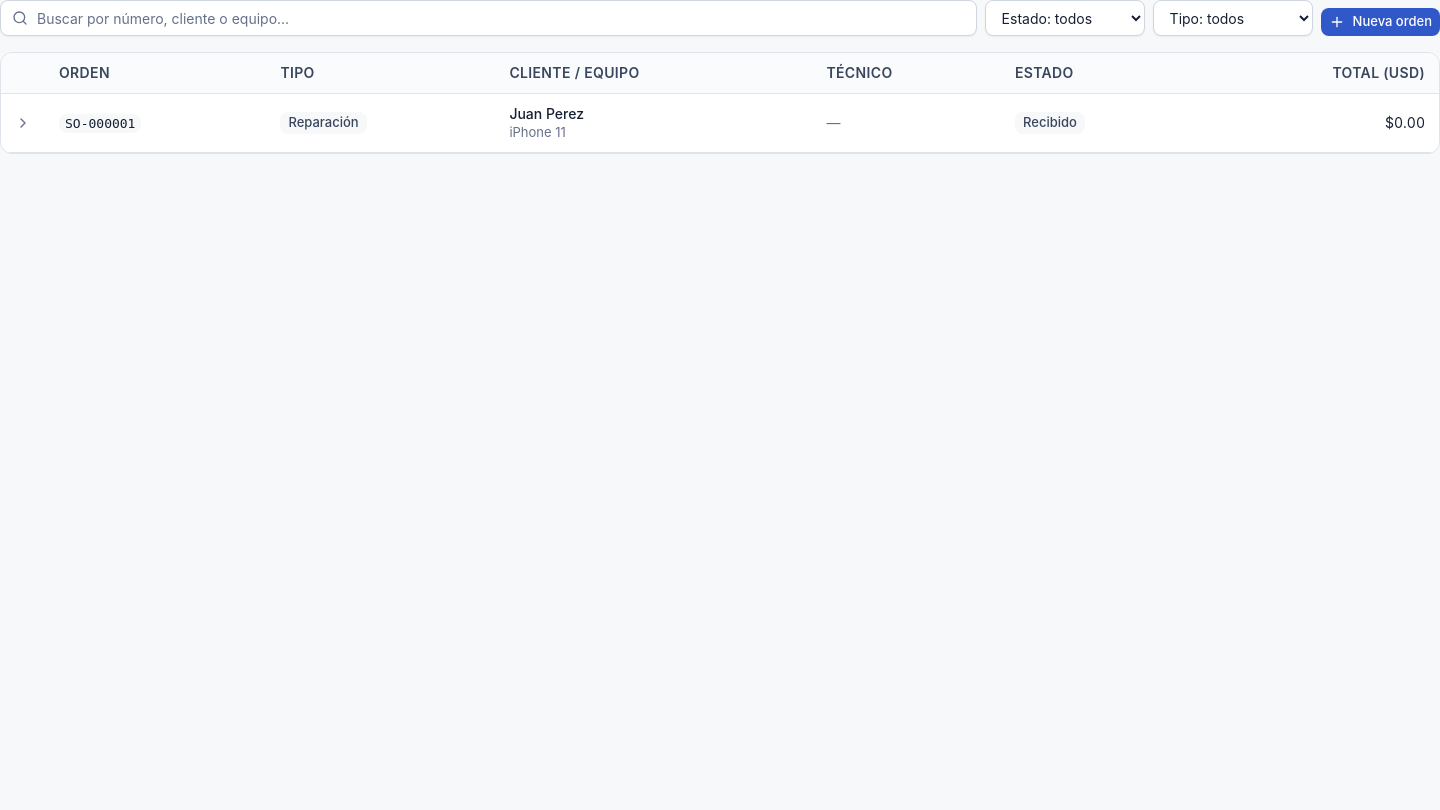
Test: WorkshopManager › para garantia exige tratamiento (boton deshabilitado sin resolution)
Click the button "Nueva orden".
click(1380, 22)  # box [1321,8,1439,36]
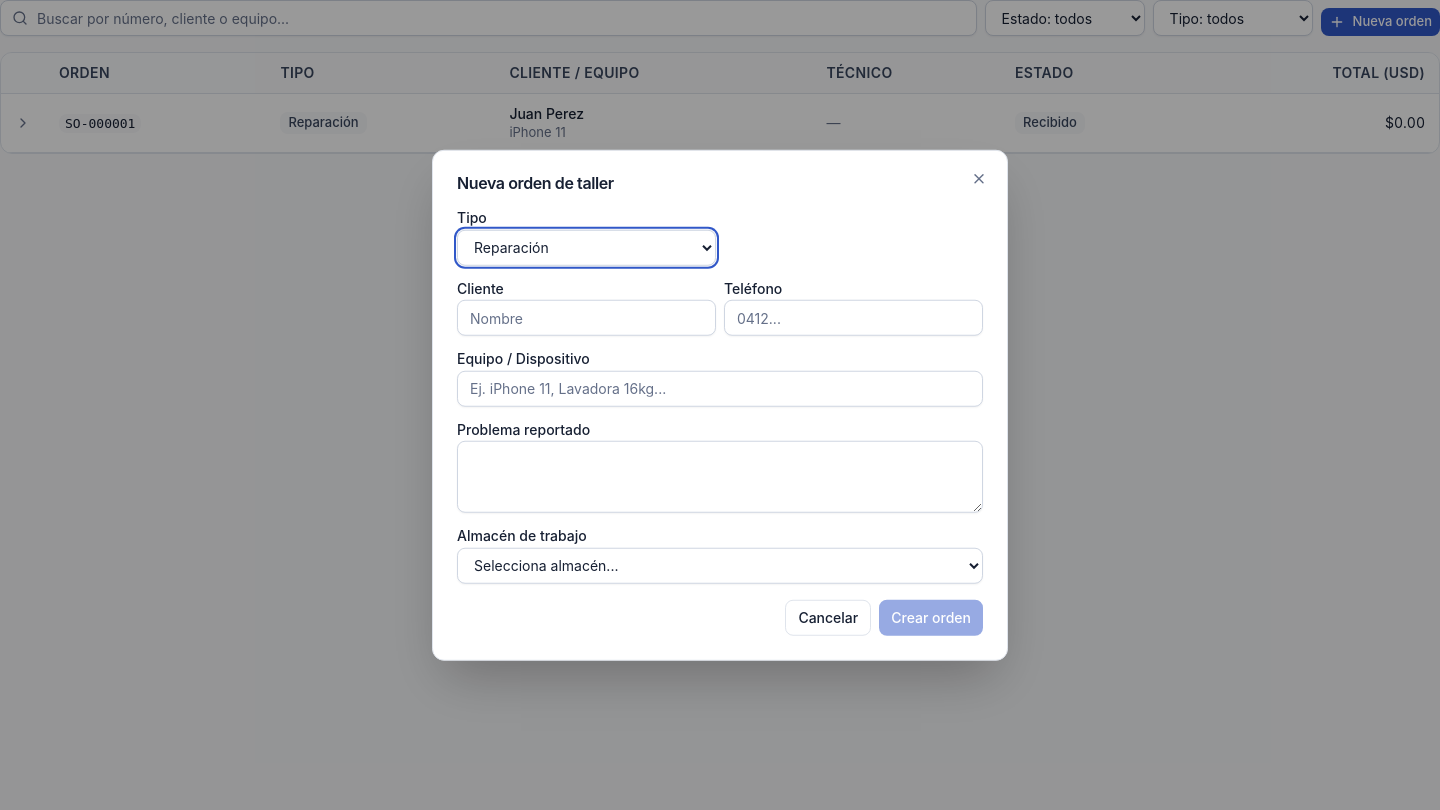
Select "Garantía" in the dropdown with test id "ws-create-type" at x=586, y=247, box [457,229,716,265]
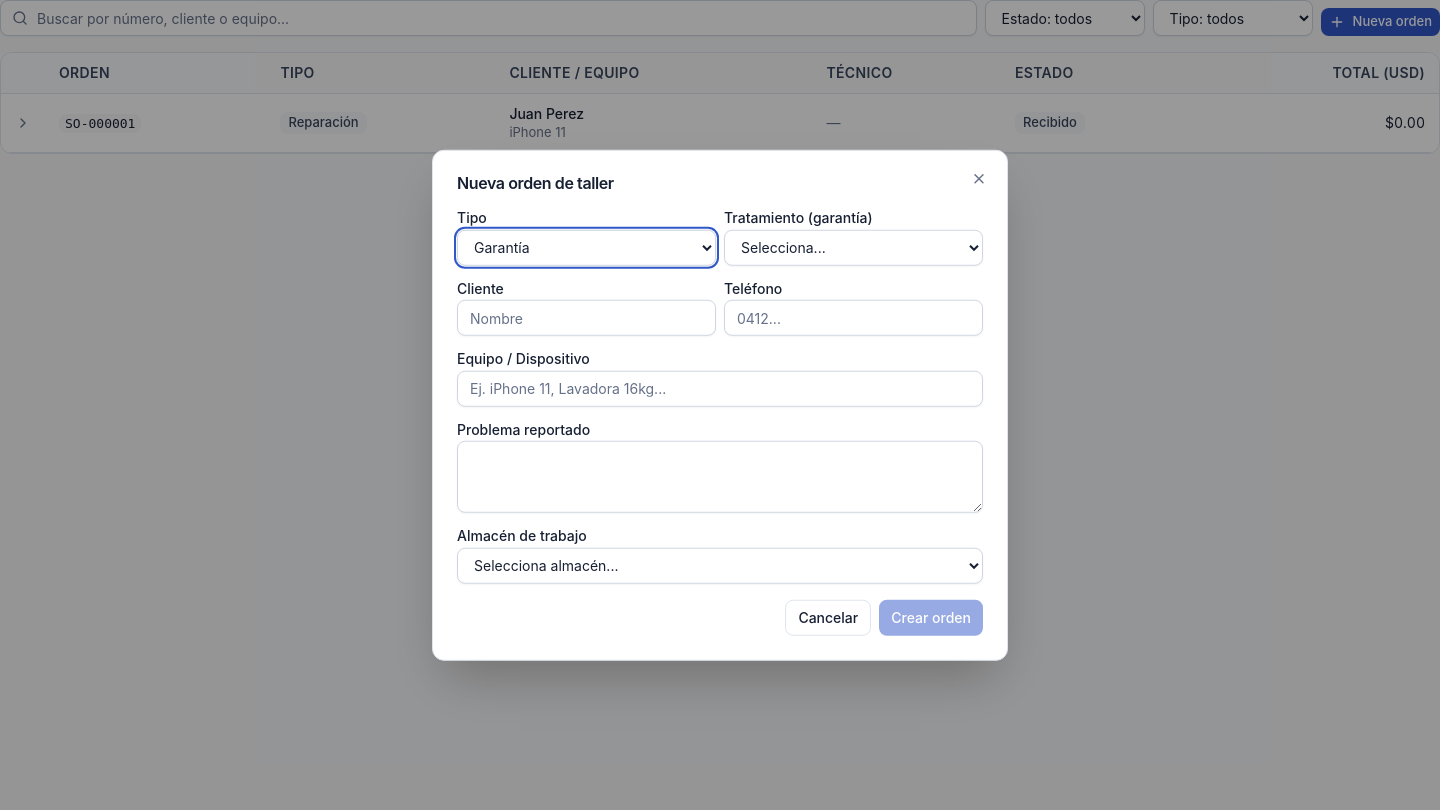
Select "WH-1 - Taller" in the dropdown with test id "ws-create-warehouse" at x=720, y=565, box [457,547,983,583]
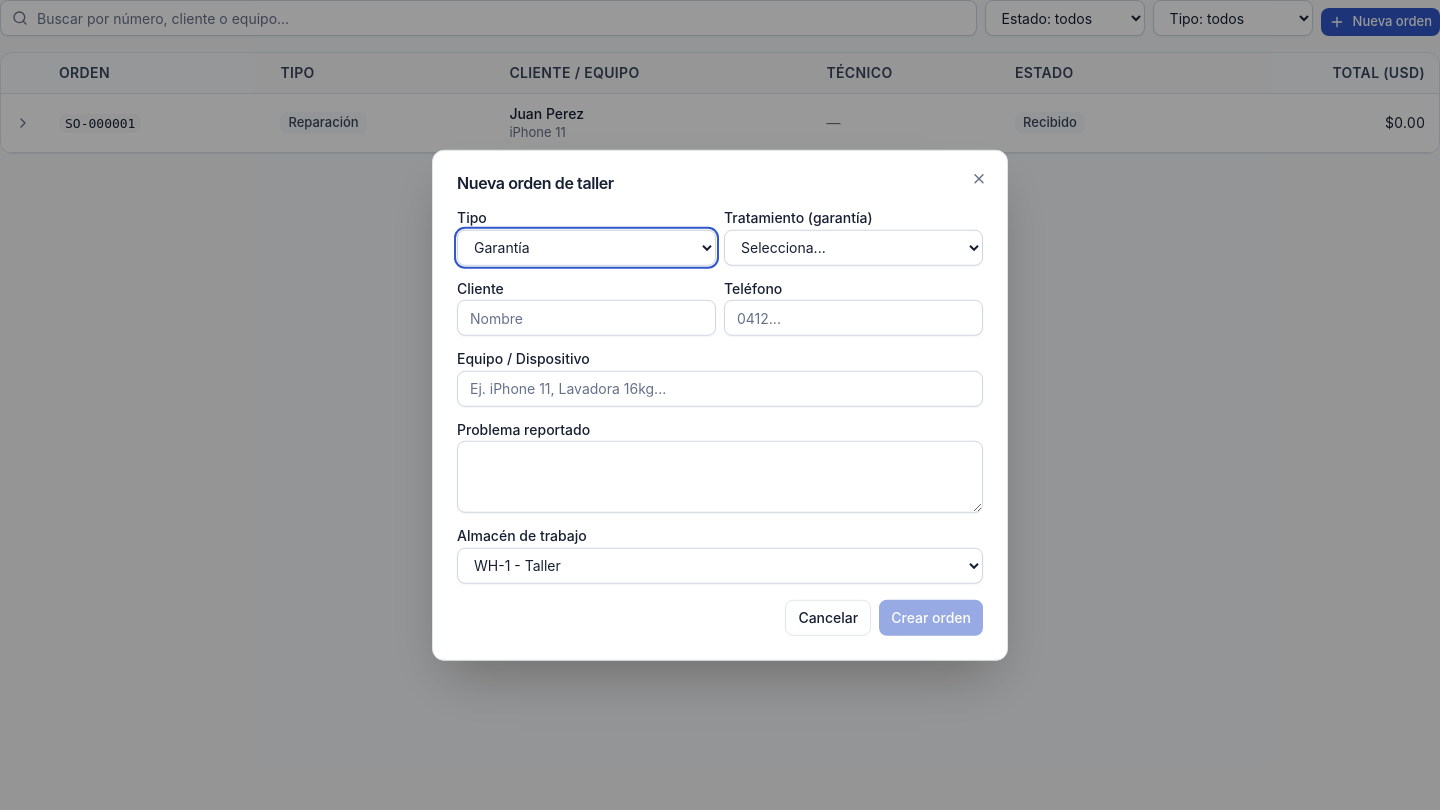
Expected: the button "Crear orden" is disabled, [879,599,983,635]
Select "Taller" in the dropdown with test id "ws-create-resolution" at x=854, y=247, box [724,229,983,265]
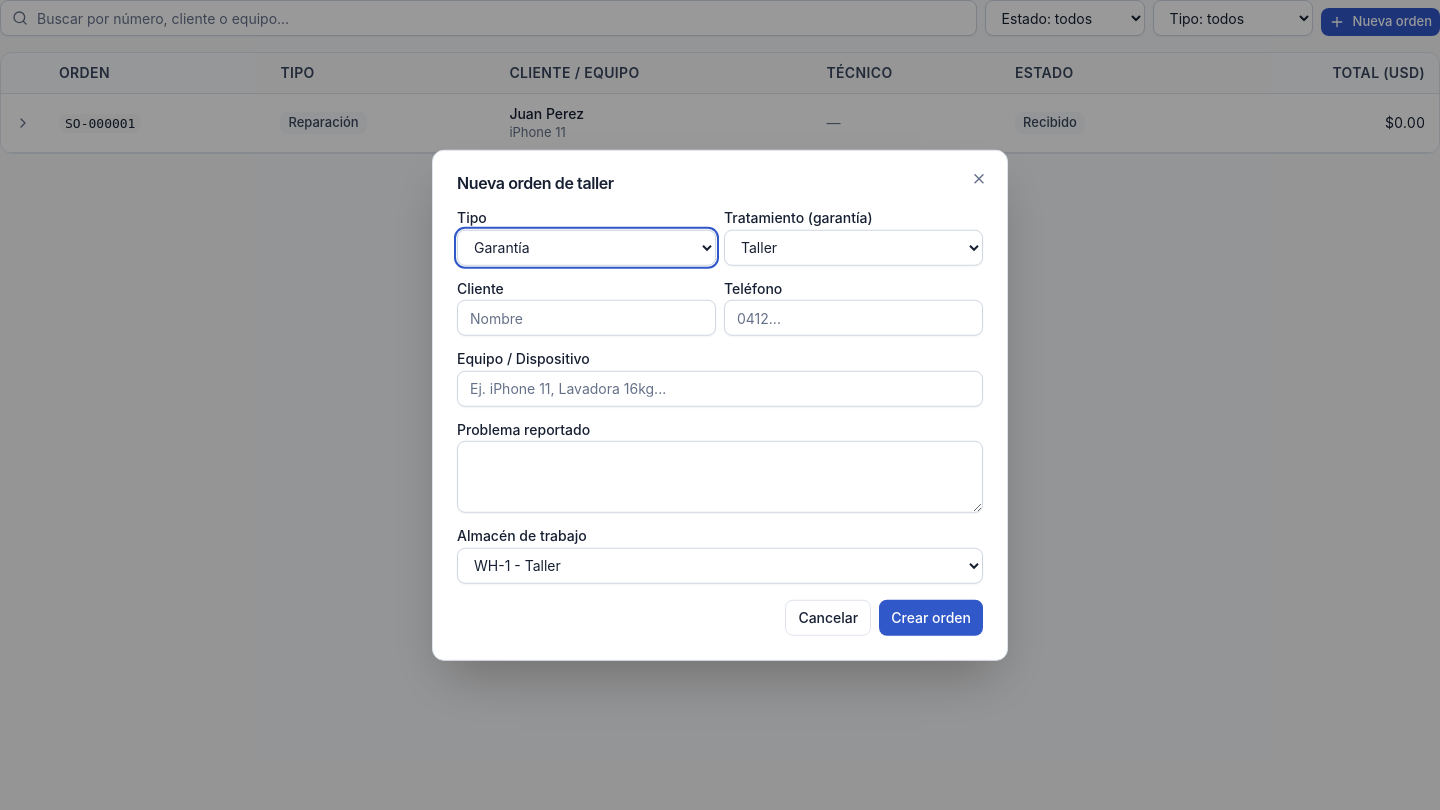
Expected: the button "Crear orden" is enabled, [879,599,983,635]
